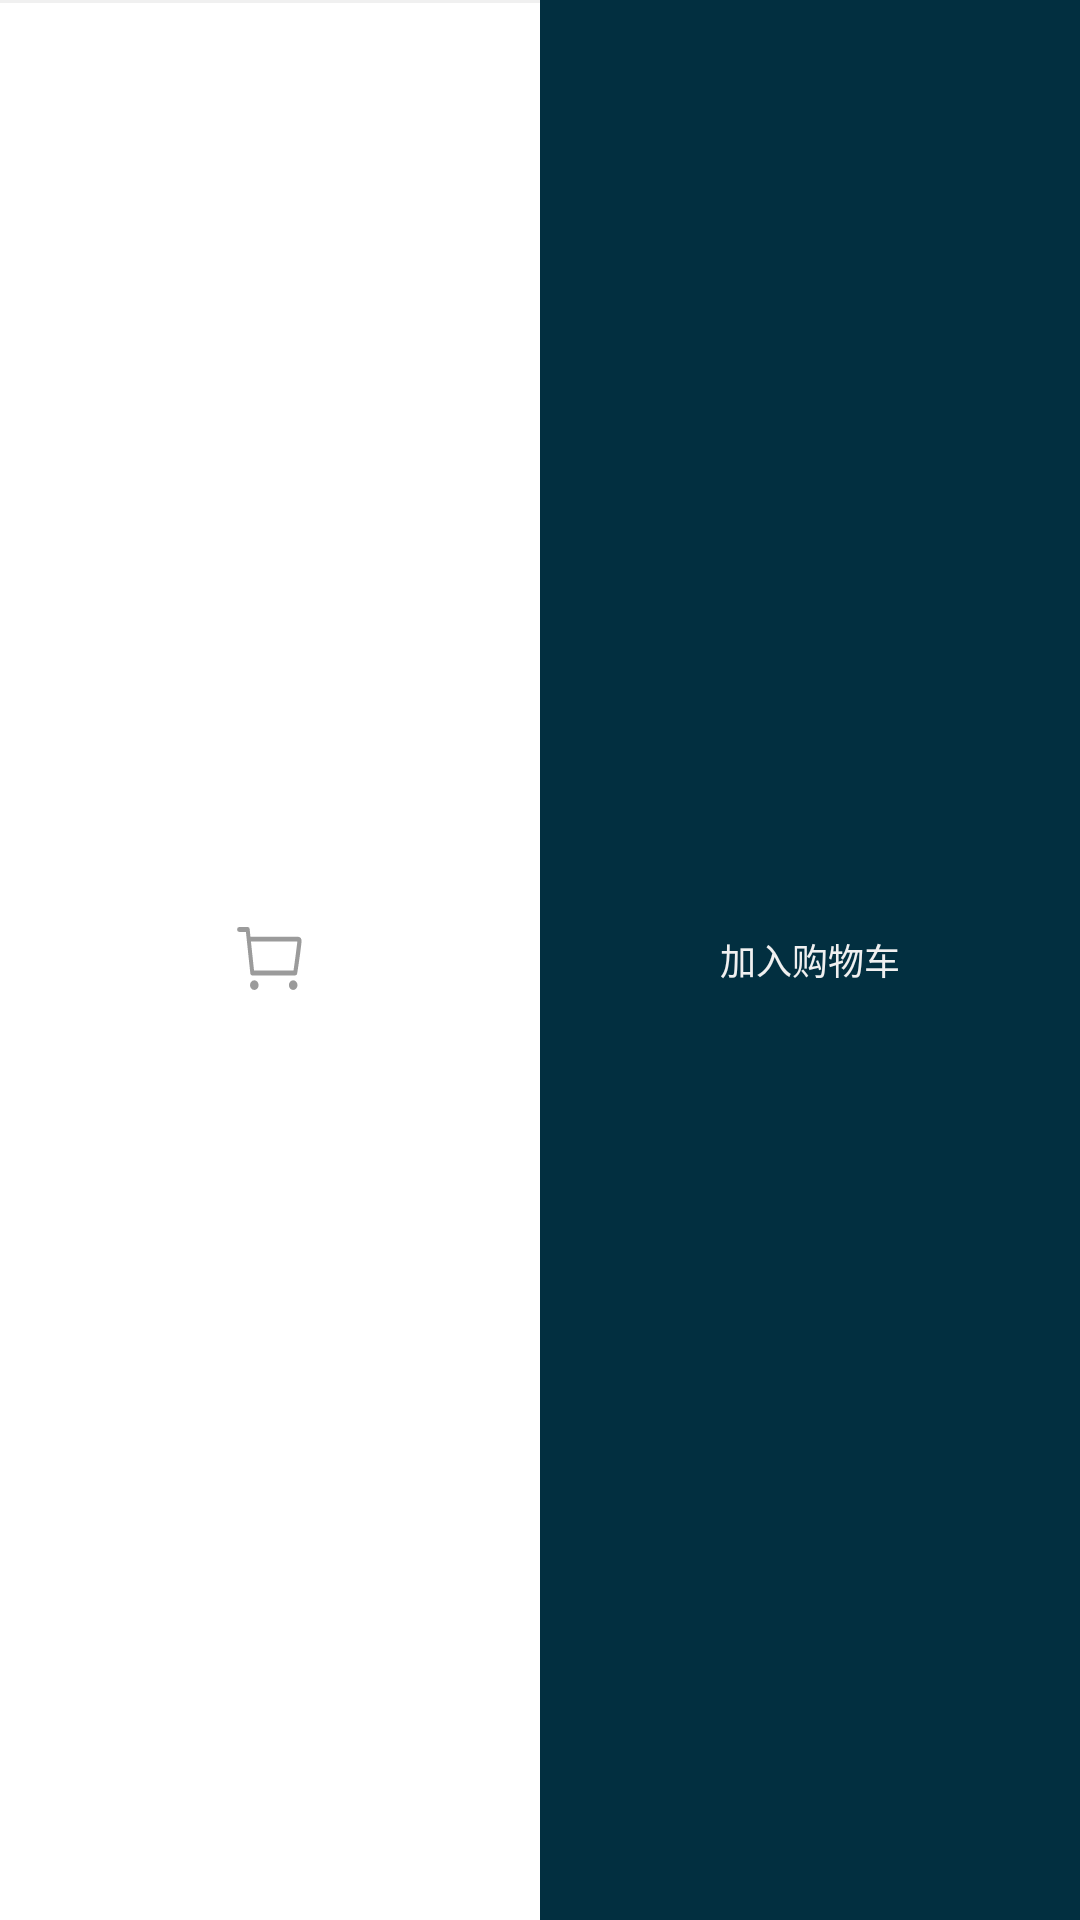

Named icons in this screenshot (1080×1920) and their bounding boxes, (x1, y1, x2, y2):
cart: (237, 927, 302, 990)
